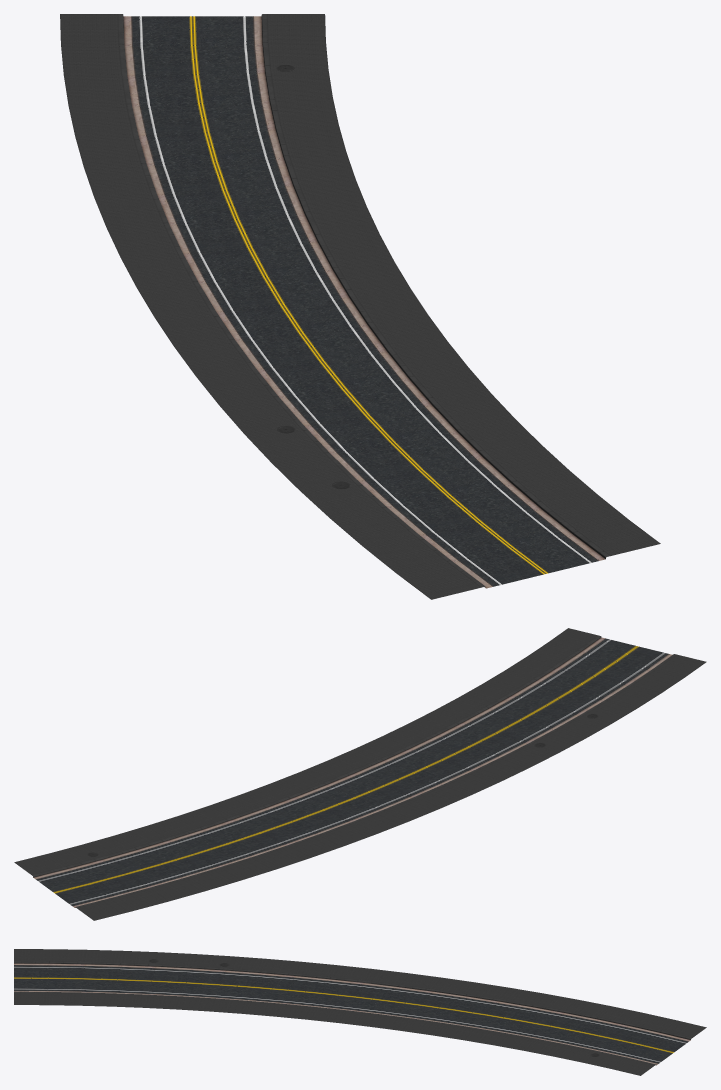
File: or_city_road_US_cont_marking_30right.fbx
The picture shows the model from 3 angles, top to bottom: view 1: azimuth 30°, elevation 25°; view 2: azimuth 150°, elevation 25°; view 3: azimuth 270°, elevation 25°; orthographic projection. The views are drawn at different scales.
Visible parts, largest first — view 1: obj0; view 2: obj0; view 3: obj0.
Part boxes in pixels (x1=…): obj0: x1=60, y1=14, x2=660, y2=599; obj0: x1=14, y1=628, x2=706, y2=920; obj0: x1=14, y1=949, x2=706, y2=1075.
Size of the model in its own units: 66.21 by 0.254 by 153.
